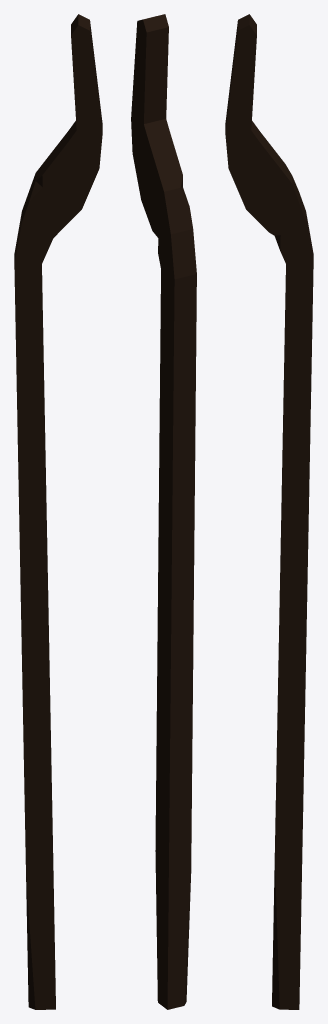
Rendered from SFFA_Pincer_008.fbx.
The picture shows the model from 3 angles, left to right: view 1: azimuth 90°, elevation 25°; view 2: azimuth 210°, elevation 25°; view 3: azimuth 270°, elevation 25°; orthographic projection.
Parts seen in each view (by area): view 1: SFFA_Pincer_008; view 2: SFFA_Pincer_008; view 3: SFFA_Pincer_008.
Boxes of the visible parts, <box> form: SFFA_Pincer_008: <box>14,14,102,1009</box>; SFFA_Pincer_008: <box>131,14,196,1009</box>; SFFA_Pincer_008: <box>225,14,313,1009</box>.
Bounding box in the file's own units: 2.26 × 93.7 × 7.6.
